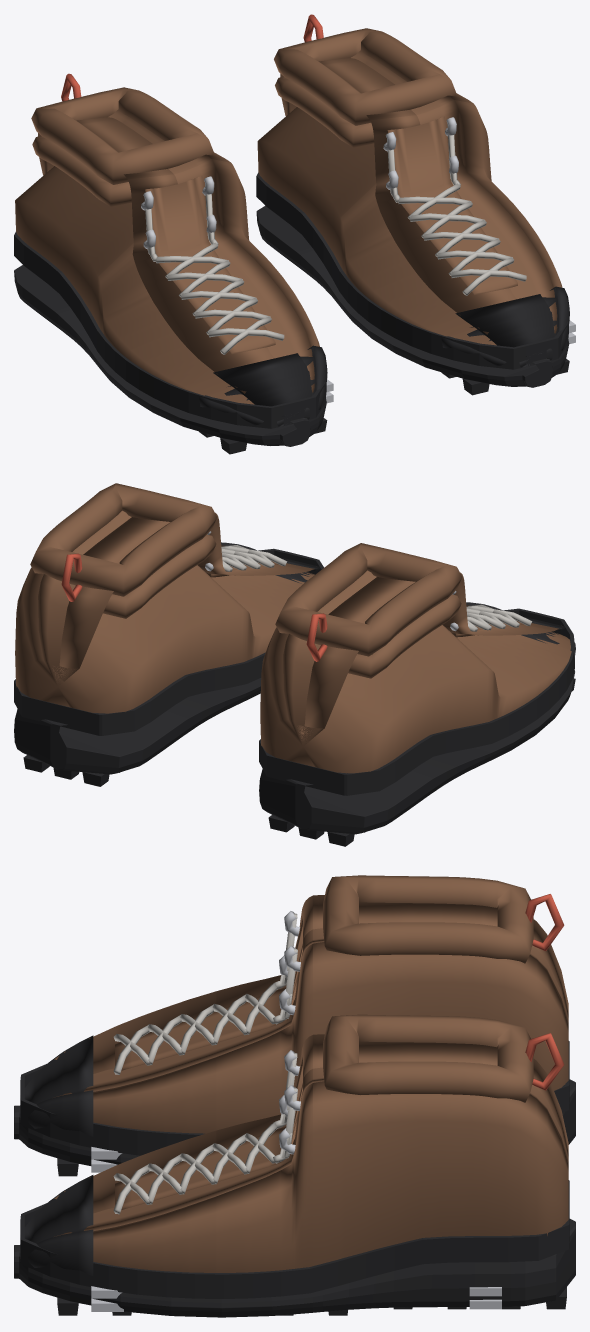
File: boots.fbx
3 views of the same model, one above another, from view 1: azimuth 30°, elevation 25°; view 2: azimuth 150°, elevation 25°; view 3: azimuth 270°, elevation 25° (orthographic). The views are drawn at different scales.
Visible parts, largest first — view 1: BOOTS_R_Upper, BOOTS_L_Upper, BOOTS_L_Cuff, BOOTS_R_Cuff, BOOTS_L_Rand, BOOTS_R_Rand, BOOTS_L_Tongue, BOOTS_R_Tongue, BOOTS_L_Sole, BOOTS_R_Sole, BOOTS_R_Toe, BOOTS_L_Toe (+4 smaller); view 2: BOOTS_L_Upper, BOOTS_R_Upper, BOOTS_R_Cuff, BOOTS_L_Cuff, BOOTS_L_Sole, BOOTS_R_Sole, BOOTS_L_Rand, BOOTS_R_Rand, BOOTS_L_Laces, BOOTS_R_Laces, BOOTS_L_Lugs, BOOTS_R_Lugs (+2 smaller); view 3: BOOTS_R_Upper, BOOTS_L_Upper, BOOTS_R_Sole, BOOTS_R_Cuff, BOOTS_L_Cuff, BOOTS_R_Rand, BOOTS_L_Toe, BOOTS_R_Toe, BOOTS_L_Laces, BOOTS_R_Laces, BOOTS_L_Rand, BOOTS_L_Tongue (+6 smaller).
Part boxes in pixels (x1,y1,x2,y2): BOOTS_R_Upper: [257, 50, 562, 345]; BOOTS_L_Upper: [15, 109, 319, 404]; BOOTS_L_Cuff: [31, 73, 213, 206]; BOOTS_R_Cuff: [274, 14, 456, 147]; BOOTS_L_Rand: [14, 232, 326, 428]; BOOTS_R_Rand: [256, 172, 568, 369]; BOOTS_L_Tongue: [145, 175, 275, 354]; BOOTS_R_Tongue: [387, 116, 517, 294]; BOOTS_L_Sole: [14, 265, 326, 446]; BOOTS_R_Sole: [256, 205, 569, 387]; BOOTS_R_Toe: [441, 286, 569, 367]; BOOTS_L_Toe: [199, 345, 327, 426]; BOOTS_L_Upper: [260, 570, 571, 773]; BOOTS_R_Upper: [15, 510, 314, 713]; BOOTS_R_Cuff: [30, 483, 217, 618]; BOOTS_L_Cuff: [275, 543, 462, 678]; BOOTS_L_Sole: [259, 670, 574, 834]; BOOTS_R_Sole: [14, 678, 261, 774]; BOOTS_L_Rand: [259, 608, 574, 795]; BOOTS_R_Rand: [14, 548, 323, 735]; BOOTS_L_Laces: [466, 604, 532, 631]; BOOTS_R_Laces: [221, 545, 287, 571]; BOOTS_L_Lugs: [268, 678, 575, 846]; BOOTS_R_Lugs: [23, 755, 119, 786]; BOOTS_R_Upper: [54, 1034, 568, 1272]; BOOTS_L_Upper: [54, 895, 568, 1133]; BOOTS_R_Sole: [14, 1219, 575, 1317]; BOOTS_R_Cuff: [323, 1014, 564, 1102]; BOOTS_L_Cuff: [323, 875, 564, 963]; BOOTS_R_Rand: [20, 1180, 569, 1298]; BOOTS_L_Toe: [20, 1035, 93, 1136]; BOOTS_R_Toe: [20, 1175, 93, 1275]; BOOTS_L_Laces: [113, 913, 297, 1074]; BOOTS_R_Laces: [113, 1052, 297, 1214]; BOOTS_L_Rand: [20, 1041, 569, 1155]; BOOTS_L_Tongue: [115, 916, 302, 1070].
Bounding box in the file's own units: 0.3077 × 0.1559 × 0.312.
